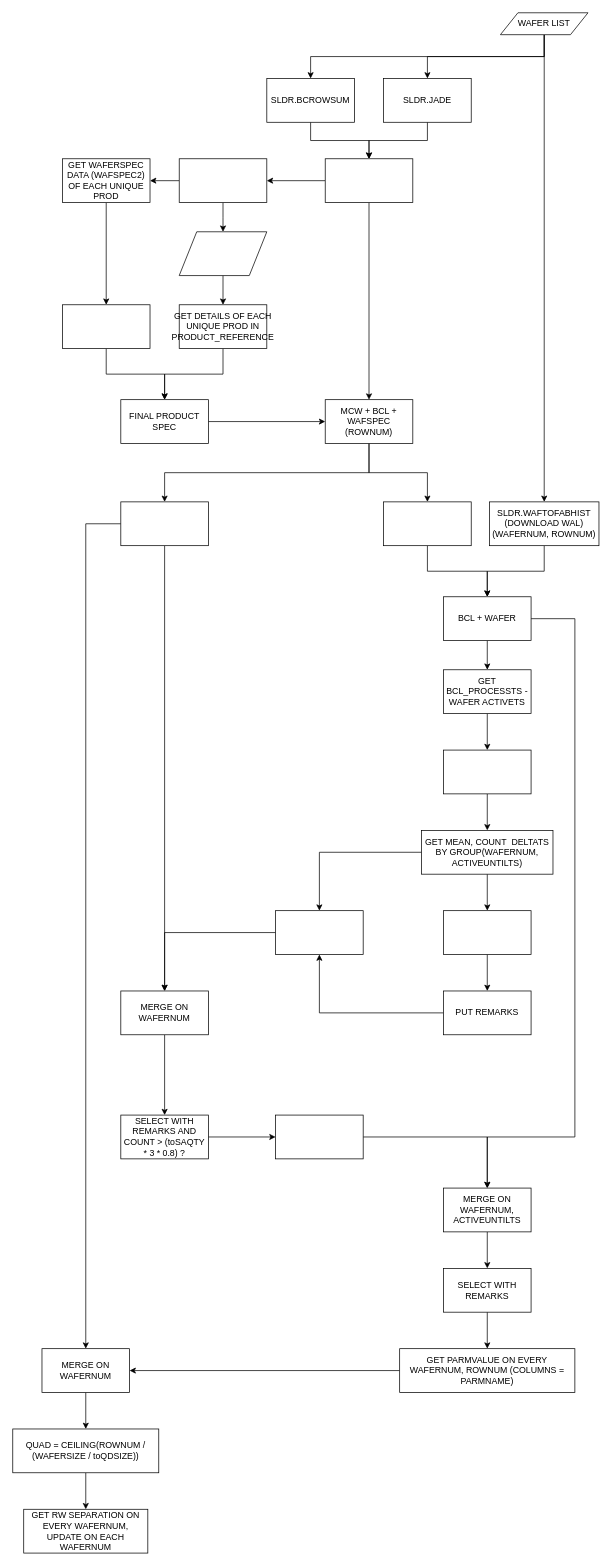
Image size: 612x1566. Some labels were removed from this diagram. The shapes that lost their labels are listed below. From the top down, each one's centre as x and y in pixels, then its label:
At pixel 222 180: "GET LIST OF UNIQUE PRODUCT".
At pixel 368 180: "MCW+BCL".
At pixel 222 253: "IMPORT PRODUCT_REFERENCE".
At pixel 106 326: "GET MCWSA TARGET, MCWSA SENSITIVITY, SA SENSITIVITY QUAD".
At pixel 164 523: "GET WAFERSIZE, MCWSA TARGET, ETC. PER WAFER".
At pixel 427 523: "GET PROCESSTS PER WAFERNUM ROWNUM".
At pixel 487 771: "SELECT > 0".
At pixel 319 932: "MERGE ON (WAFERNUM, DELTATS)".
At pixel 487 932: "GET MIN (MEAN(DELTATS)) BY WAFERNUM,".
At pixel 319 1136: "DROP WAFERNUM DUPLICATES".
